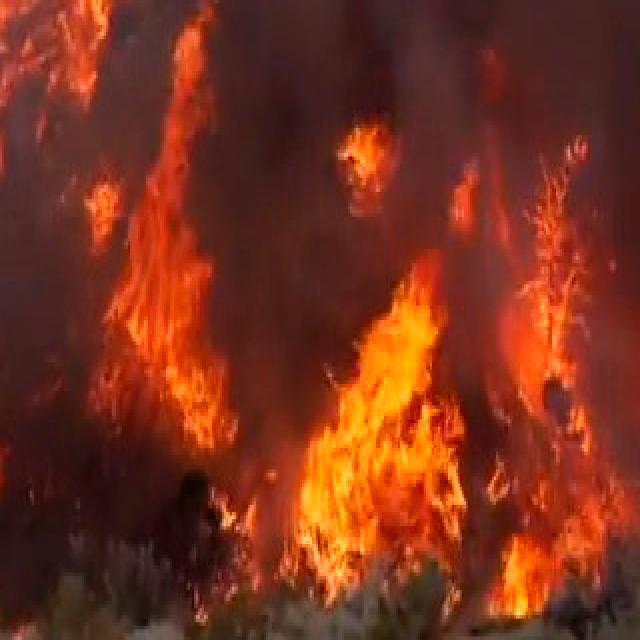fire: (64, 94, 258, 502), (454, 181, 610, 638), (299, 312, 472, 631), (0, 0, 160, 263)
smoke: (190, 0, 640, 110)
